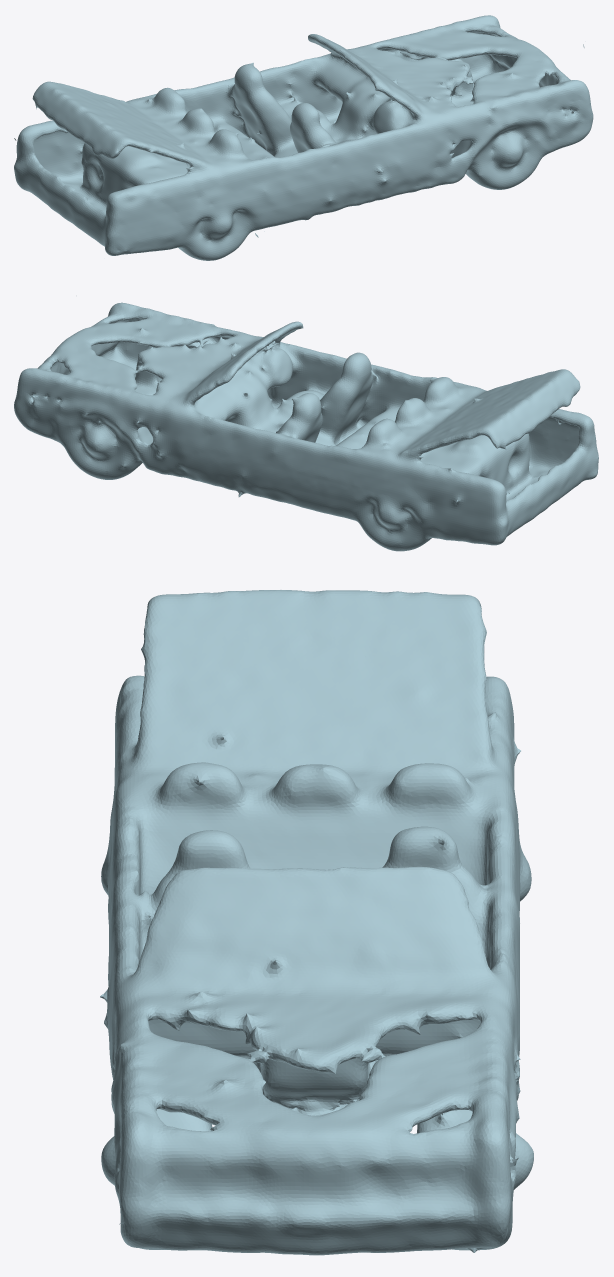
File: ours.glb
The picture shows the model from 3 angles, top to bottom: view 1: azimuth 30°, elevation 25°; view 2: azimuth 150°, elevation 25°; view 3: azimuth 270°, elevation 25°; orthographic projection. The views are drawn at different scales.
Visible parts, largest first — view 1: car.obj; view 2: car.obj; view 3: car.obj.
Part boxes in pixels (x1=…): car.obj: x1=14, y1=15, x2=593, y2=260; car.obj: x1=14, y1=302, x2=598, y2=551; car.obj: x1=100, y1=590, x2=533, y2=1255.
Size of the model in its own units: 1.04 by 0.2921 by 0.4083.
